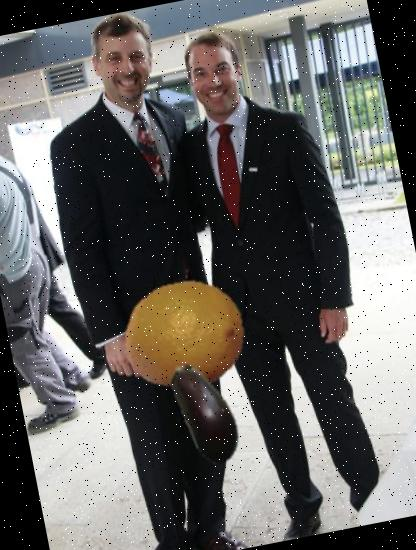Eggplant: (140, 346, 270, 476)
Lemon: (112, 262, 256, 407)
